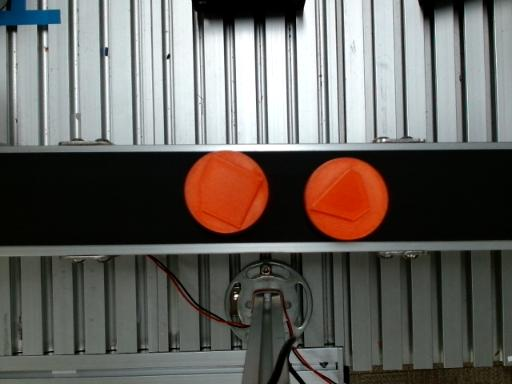Not_Square: (197, 153, 265, 228), (311, 168, 371, 220)
Orange_Waper: (185, 151, 268, 233), (304, 158, 388, 239)
